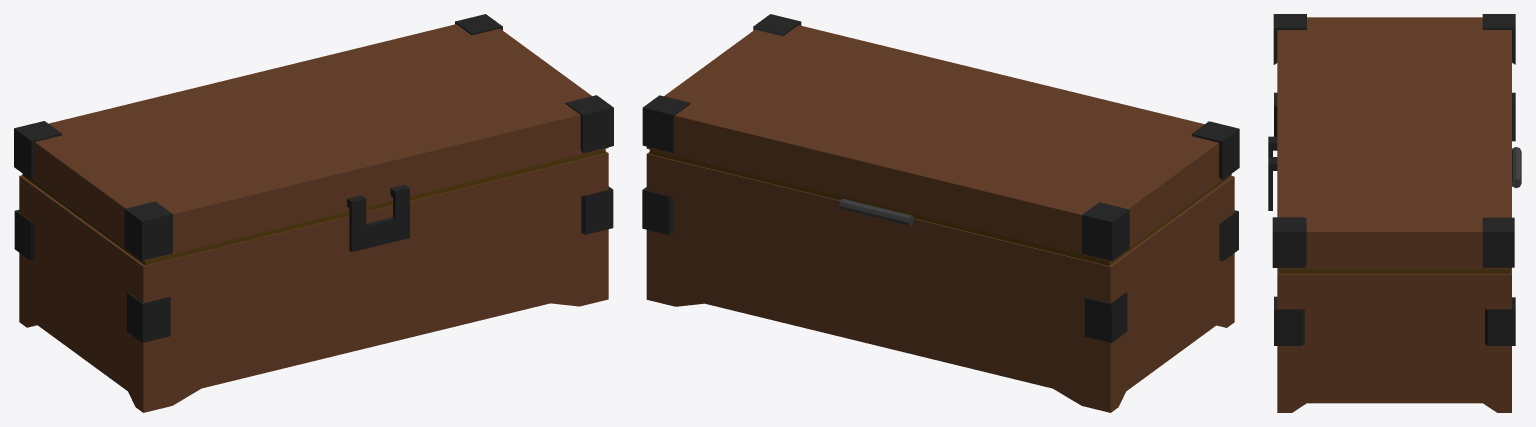
The model's file is tablechest01.obj.
3 renders of one model, left to right at view 1: azimuth 30°, elevation 25°; view 2: azimuth 150°, elevation 25°; view 3: azimuth 270°, elevation 25°, orthographic. The views are drawn at different scales.
Visible parts, largest first — view 1: Cube; view 2: Cube; view 3: Cube.
Boxes of the visible parts, <box> form: Cube: <box>14,14,613,412</box>; Cube: <box>642,14,1239,412</box>; Cube: <box>1268,14,1521,412</box>.
Size of the model in its own units: 0.4489 by 0.176 by 0.2207.
